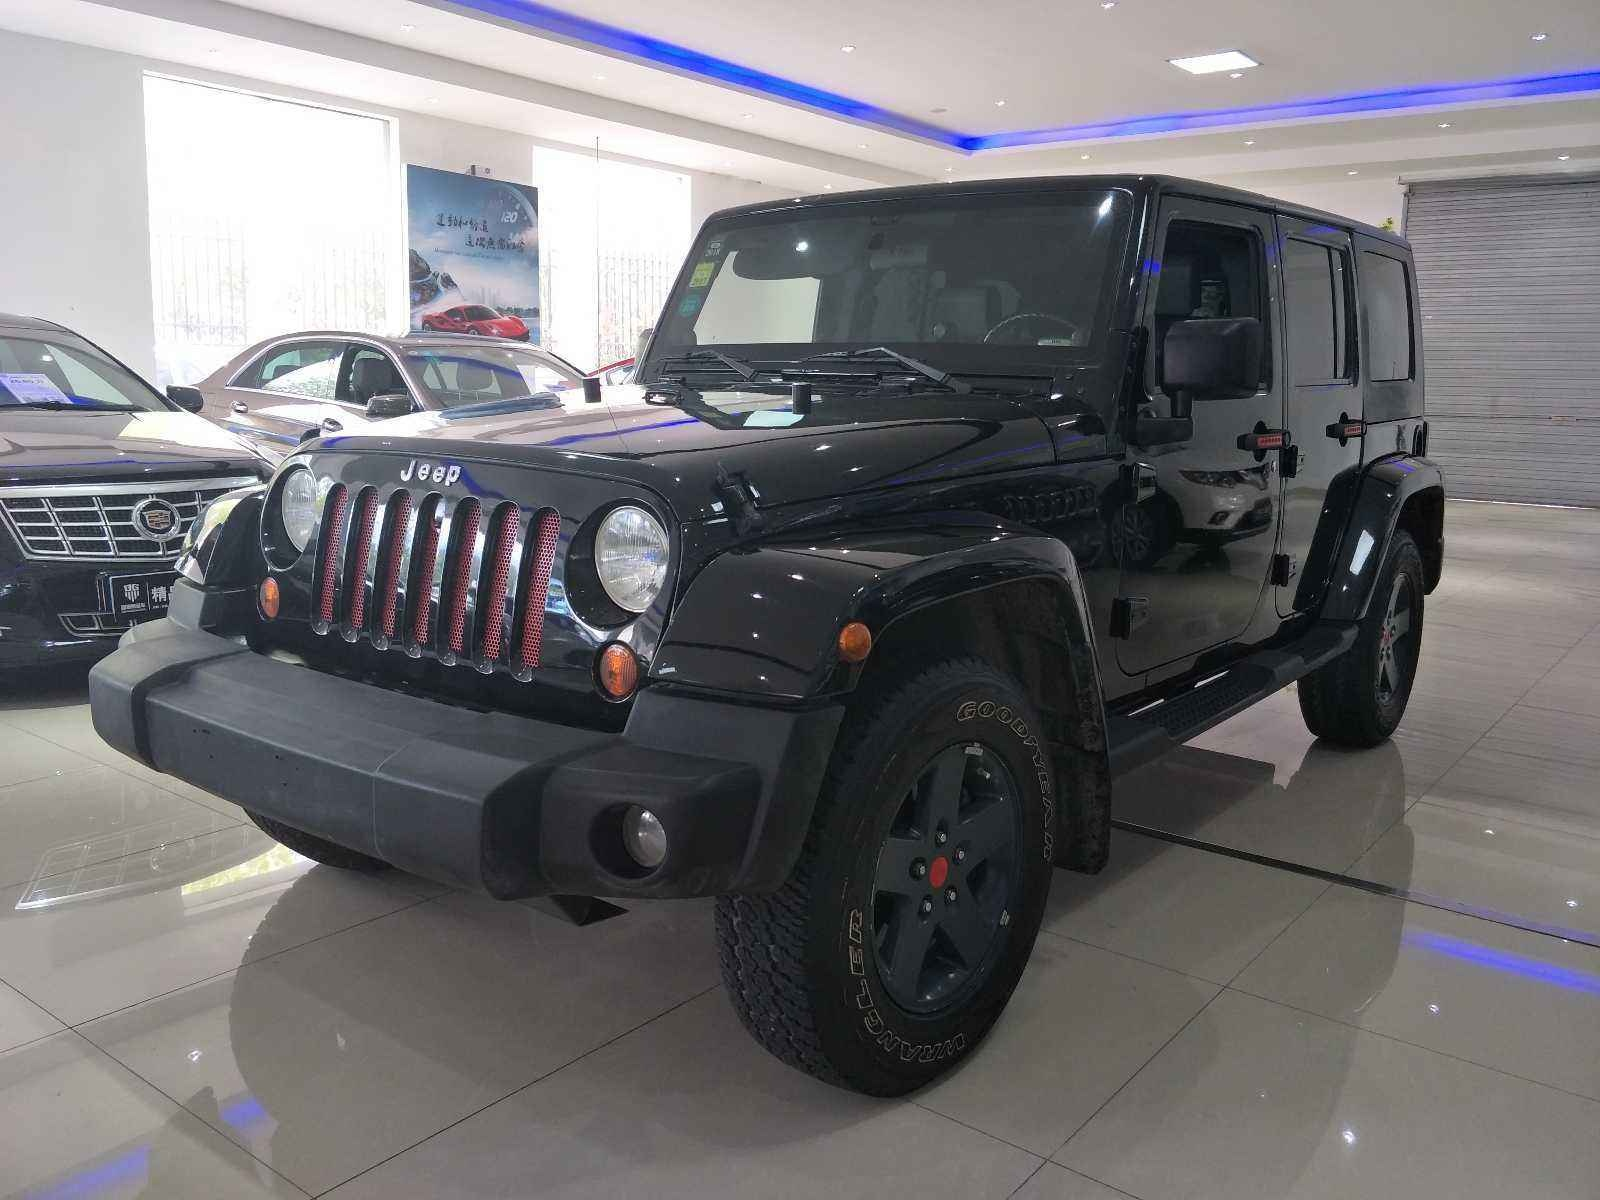jeep: (146, 144, 1455, 1087)
